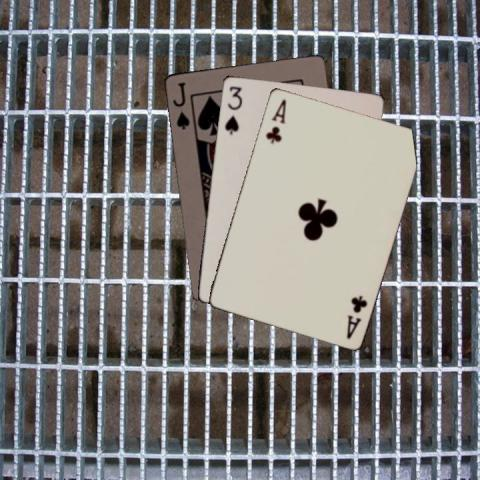3s: (222, 83, 244, 135)
Ac: (262, 95, 287, 145), (343, 292, 369, 340)
Js: (169, 79, 191, 131)
